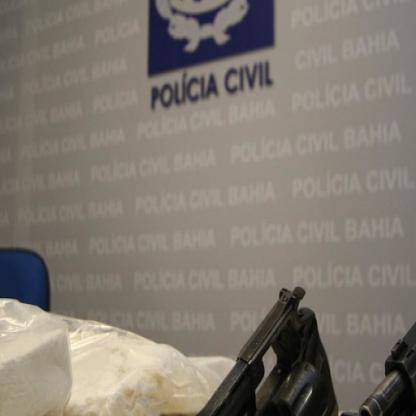gun: (167, 286, 342, 415), (334, 208, 415, 415)
